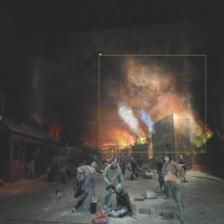smoke: (99, 55, 206, 152)
